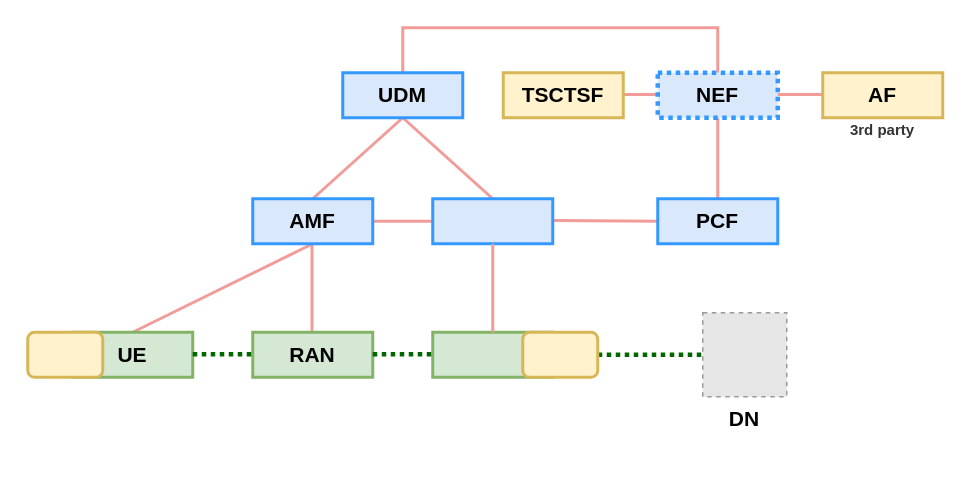
Some shapes in this 969 by 482 pixel diagram are drawn without their labels. Grey dashed boxes stand in for pictures. The shapes that lost their labels are listed below. From the top down, each one's centre as x and y in pixels, then its label:
the point at 492,220: SMF
the point at 65,354: DS-TT
the point at 492,354: UPF
the point at 559,354: NW-TT
